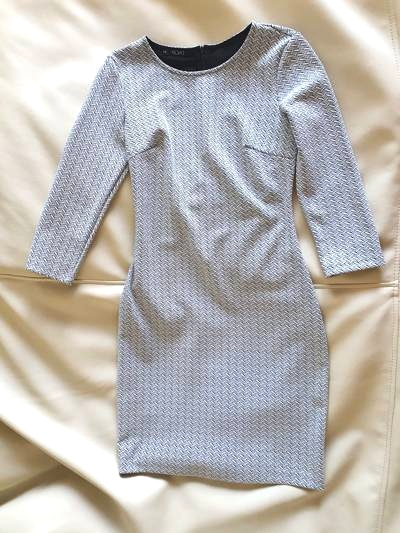Dress: (12, 16, 381, 490)
